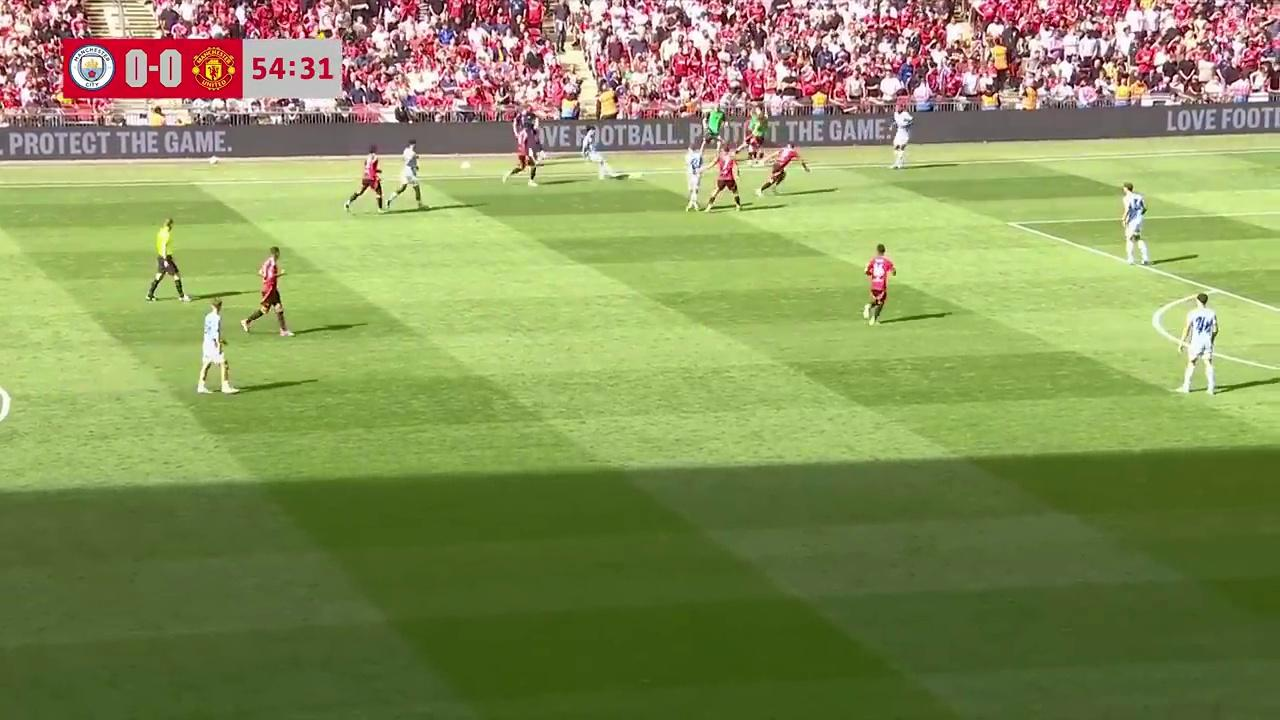ball: (631, 167, 646, 185)
player: (244, 246, 291, 336), (1178, 293, 1218, 394), (196, 297, 236, 395), (583, 124, 628, 183), (864, 243, 896, 323), (758, 145, 809, 195), (1120, 184, 1149, 266), (345, 157, 385, 214), (504, 121, 539, 185), (705, 152, 741, 212), (392, 144, 424, 208), (889, 103, 913, 170), (685, 146, 704, 212), (0, 383, 10, 435)
referee: (146, 217, 187, 302)
